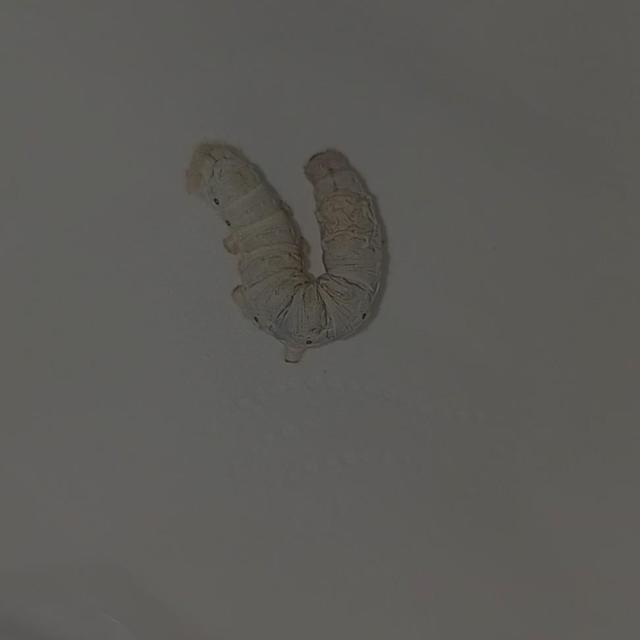Healthy: (172, 128, 392, 370)
